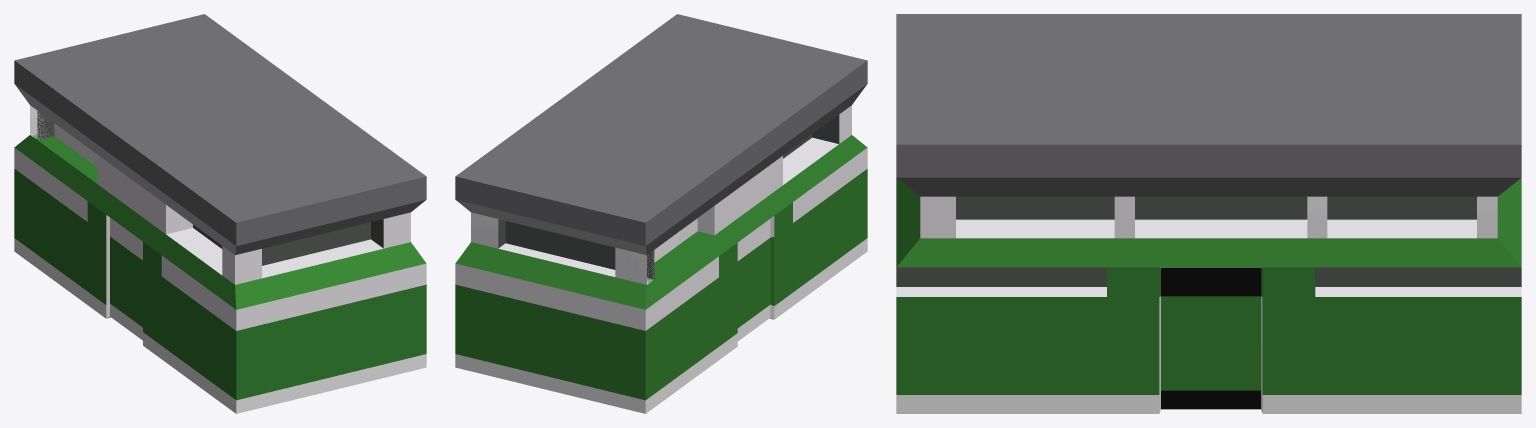
The model's file is banheiro.fbx.
3 renders of one model, left to right at view 1: azimuth 30°, elevation 25°; view 2: azimuth 150°, elevation 25°; view 3: azimuth 270°, elevation 25°, orthographic. The views are drawn at different scales.
Visible parts, largest first — view 1: Banheiro_LOD0; view 2: Banheiro_LOD0; view 3: Banheiro_LOD0.
Part boxes in pixels (left/top/right/bottom): Banheiro_LOD0: left=14, top=14, right=426, bottom=413; Banheiro_LOD0: left=455, top=14, right=867, bottom=413; Banheiro_LOD0: left=896, top=14, right=1521, bottom=413.
Size of the model in its own units: 1053 by 1011 by 2127.
Materials: 1 (1 with a texture image).
